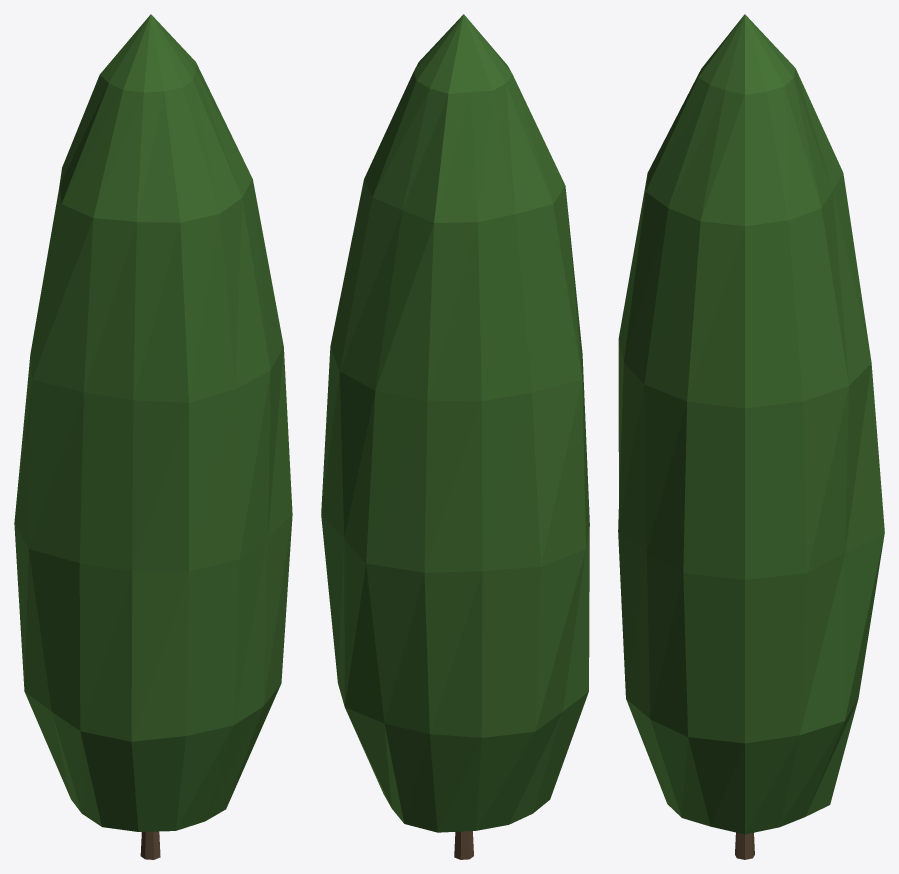
The model's file is columnar.L1.73afb9f2.glb.
3 views of the same model, side by side, from view 1: azimuth 30°, elevation 25°; view 2: azimuth 150°, elevation 25°; view 3: azimuth 270°, elevation 25° (orthographic).
Visible parts, largest first — view 1: A-TREES-COLUMNAR; view 2: A-TREES-COLUMNAR; view 3: A-TREES-COLUMNAR.
Part boxes in pixels (x1=…): A-TREES-COLUMNAR: x1=14, y1=14, x2=292, y2=859; A-TREES-COLUMNAR: x1=321, y1=14, x2=589, y2=859; A-TREES-COLUMNAR: x1=618, y1=14, x2=884, y2=859.
Bounding box in the file's own units: 2.77 × 9 × 2.59.
